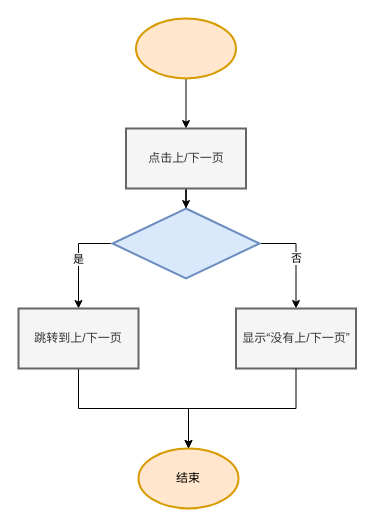
The diagram is 374 pixels wide and 526 high, and some of its shapes have lost their labels. Each missing label, with the centre of its shape:
判断页码是否存在: the point at 185,243
开始: the point at 185,48
